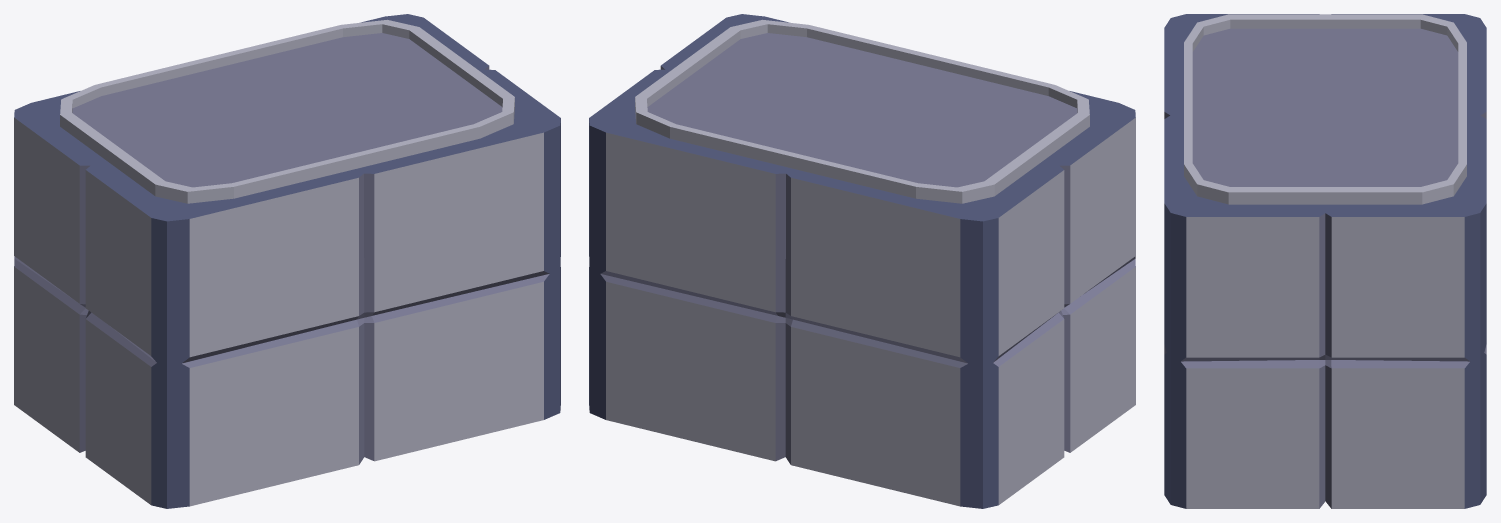
The picture shows the model from 3 angles, left to right: view 1: azimuth 30°, elevation 25°; view 2: azimuth 150°, elevation 25°; view 3: azimuth 270°, elevation 25°; orthographic projection.
Parts seen in each view (by area): view 1: Cube.029; view 2: Cube.029; view 3: Cube.029.
Part boxes in pixels (x1=…): Cube.029: x1=14, y1=14, x2=560, y2=508; Cube.029: x1=589, y1=14, x2=1135, y2=508; Cube.029: x1=1164, y1=14, x2=1486, y2=508.
Bounding box in the file's own units: 68.26 × 47.69 × 45.79.
